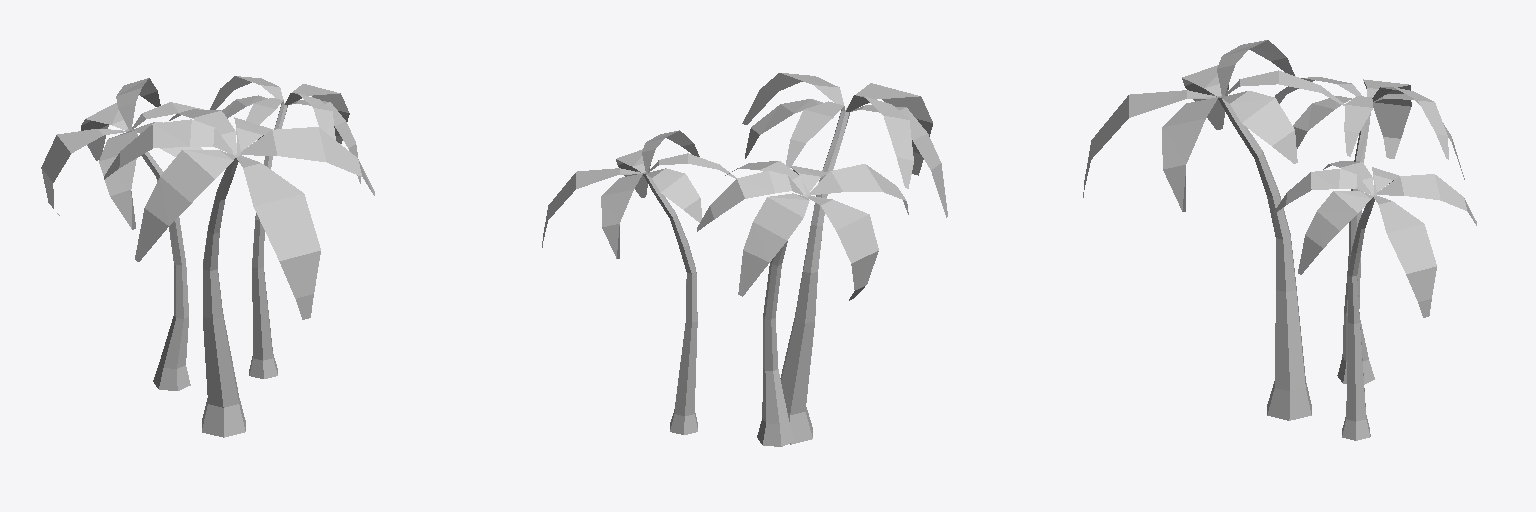
File: palm_tree_group.obj
3 views of the same model, side by side, from view 1: azimuth 30°, elevation 25°; view 2: azimuth 150°, elevation 25°; view 3: azimuth 270°, elevation 25° (orthographic).
Size of the model in its own units: 13.72 by 14.02 by 14.95.